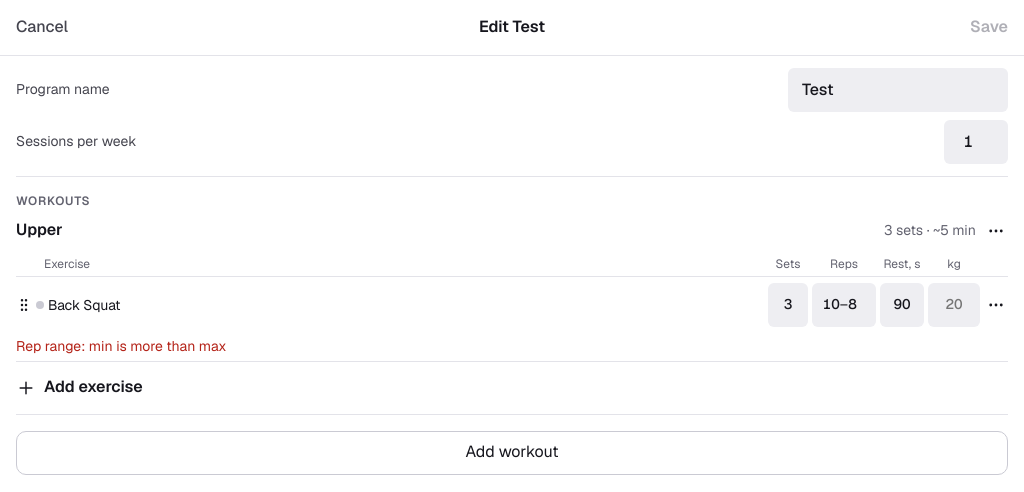
Test: O16 a rep-range fault disables Save and describes both Min reps and Max reps with the same message, until fixed
The width and height of the screenshot is (1024, 492).
expect the button "Save" is disabled: met, box [970,6,1008,50]
Replace the text in the 2nd number field named "Min reps" with "5" at (829, 305), box [818,285,840,325]
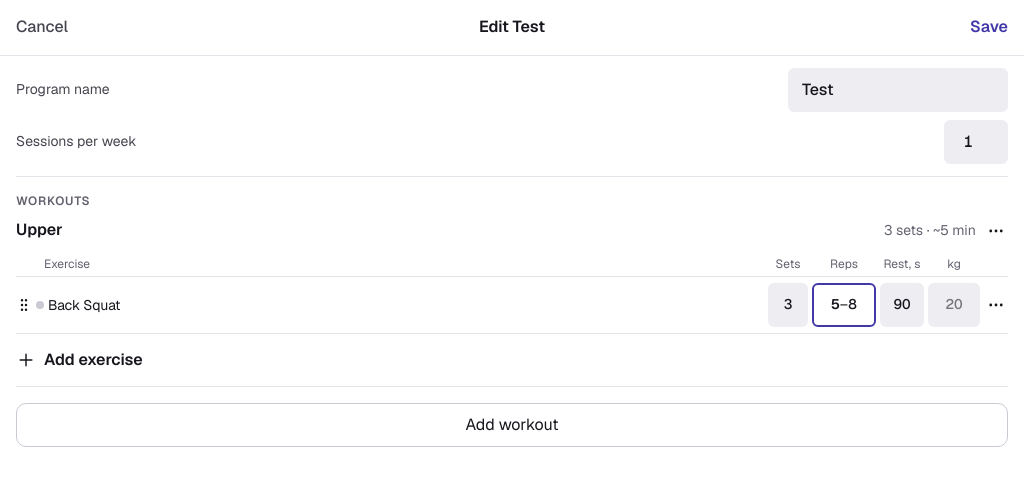
expect the text "Rep range: min is more than max" is not shown: met
expect the button "Save" is enabled: met, box [970,6,1008,50]
